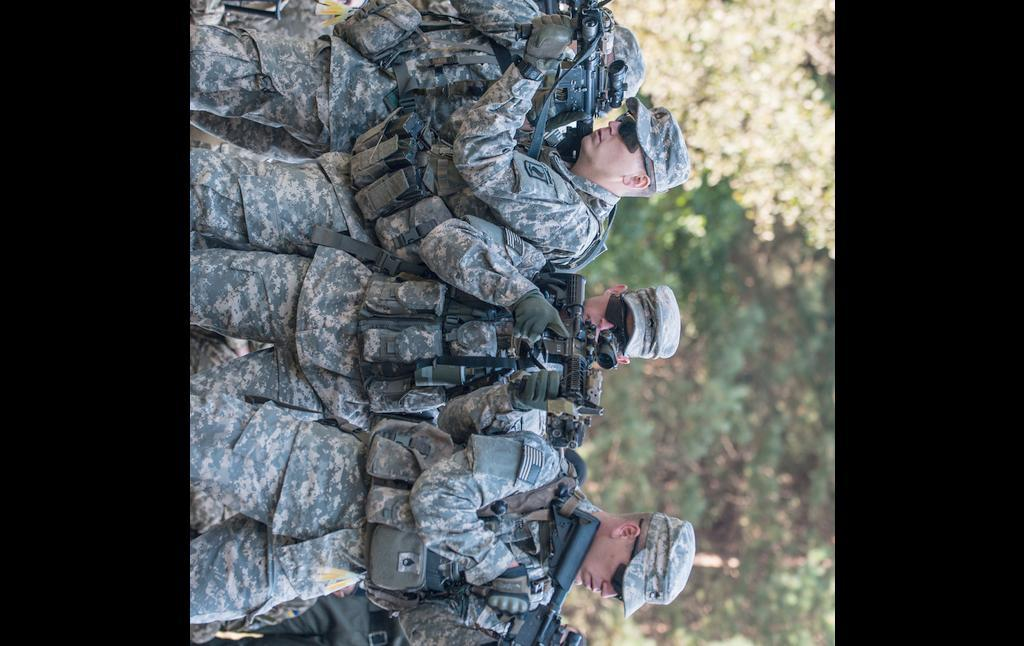gun: (445, 494, 598, 646), (523, 272, 616, 449), (532, 19, 598, 131), (510, 0, 582, 99)
